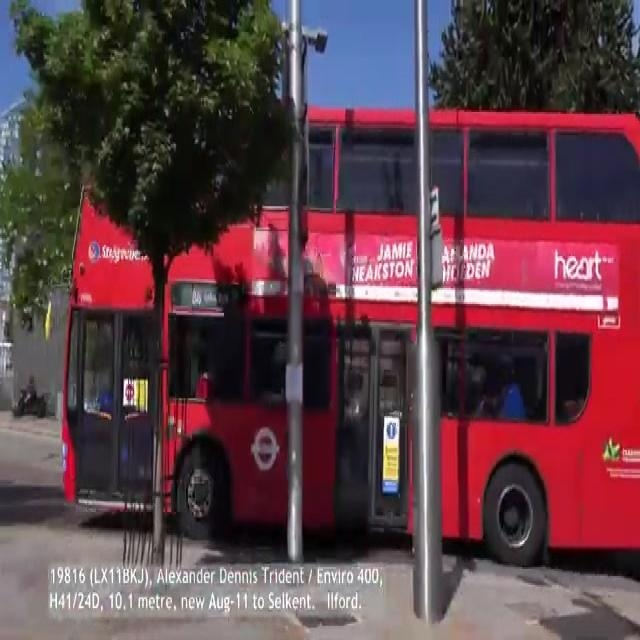Bus: (61, 98, 640, 569)
